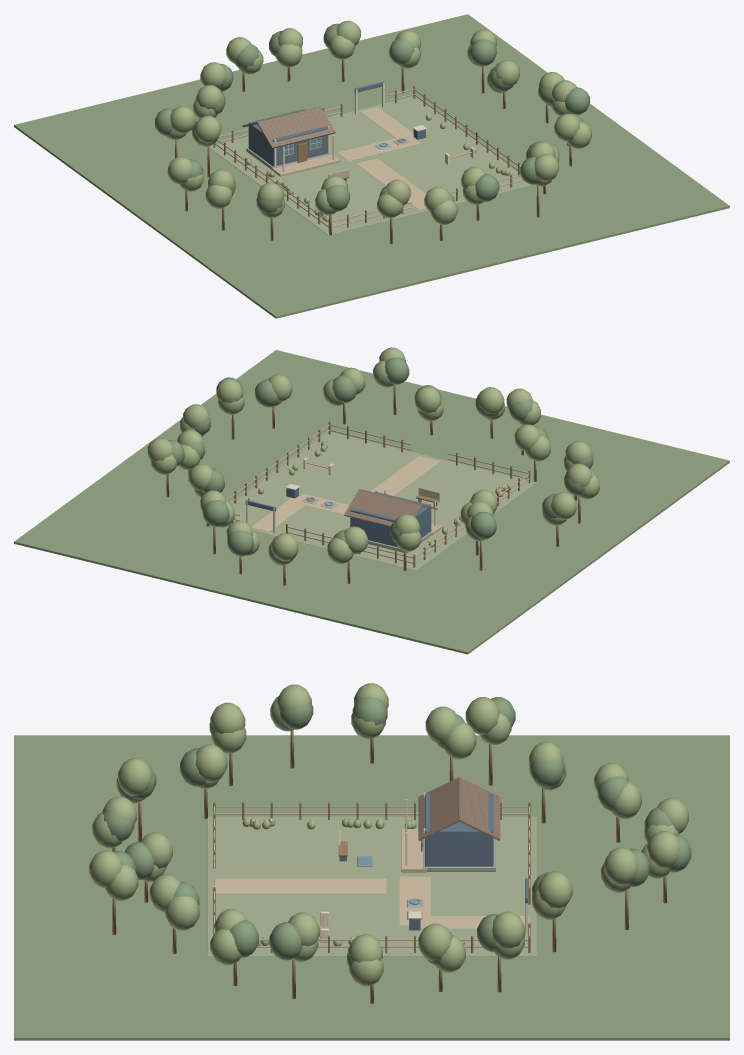
Rendered from kennel_yard.glb.
3 renders of one model, top to bottom at view 1: azimuth 30°, elevation 25°; view 2: azimuth 150°, elevation 25°; view 3: azimuth 270°, elevation 25°, orthographic. The views are drawn at different scales.
Parts seen in each view (by area): view 1: Grass_environment, LeafLight_environment, Meadow_environment, Leaf_environment, Wood_environment, Path_environment, Fence_environment, Roof_environment, Siding_environment, Trim_environment; view 2: Grass_environment, LeafLight_environment, Meadow_environment, Leaf_environment, Wood_environment, Path_environment, Fence_environment, Roof_environment, Siding_environment; view 3: Grass_environment, LeafLight_environment, Meadow_environment, Leaf_environment, Wood_environment, Path_environment, Roof_environment, Siding_environment, Fence_environment, Trim_environment, Stone_environment.
Boxes of the visible parts, left/top/right/bottom form: Grass_environment: left=14, top=14, right=729, bottom=318; LeafLight_environment: left=166, top=20, right=591, bottom=224; Meadow_environment: left=209, top=96, right=533, bottom=234; Leaf_environment: left=155, top=23, right=589, bottom=213; Wood_environment: left=175, top=59, right=571, bottom=243; Path_environment: left=337, top=107, right=426, bottom=209; Fence_environment: left=214, top=88, right=523, bottom=227; Roof_environment: left=242, top=106, right=335, bottom=148; Siding_environment: left=248, top=81, right=425, bottom=181; Trim_environment: left=274, top=82, right=475, bottom=172; Grass_environment: left=14, top=350, right=729, bottom=654; LeafLight_environment: left=147, top=347, right=599, bottom=565; Meadow_environment: left=229, top=432, right=536, bottom=570; Leaf_environment: left=168, top=357, right=593, bottom=560; Wood_environment: left=166, top=384, right=580, bottom=585; Path_environment: left=251, top=456, right=440, bottom=531; Fence_environment: left=226, top=424, right=529, bottom=563; Roof_environment: left=344, top=489, right=437, bottom=526; Siding_environment: left=245, top=488, right=437, bottom=547; Grass_environment: left=14, top=735, right=729, bottom=1040; LeafLight_environment: left=89, top=683, right=688, bottom=986; Meadow_environment: left=207, top=816, right=536, bottom=956; Leaf_environment: left=102, top=696, right=691, bottom=966; Wood_environment: left=112, top=729, right=667, bottom=1003; Path_environment: left=214, top=876, right=529, bottom=928; Roof_environment: left=418, top=777, right=500, bottom=840; Siding_environment: left=339, top=794, right=527, bottom=930; Fence_environment: left=214, top=806, right=529, bottom=947; Trim_environment: left=320, top=792, right=528, bottom=942; Stone_environment: left=407, top=838, right=495, bottom=919.
Size of the model in its own units: 50 by 7.06 by 50.
